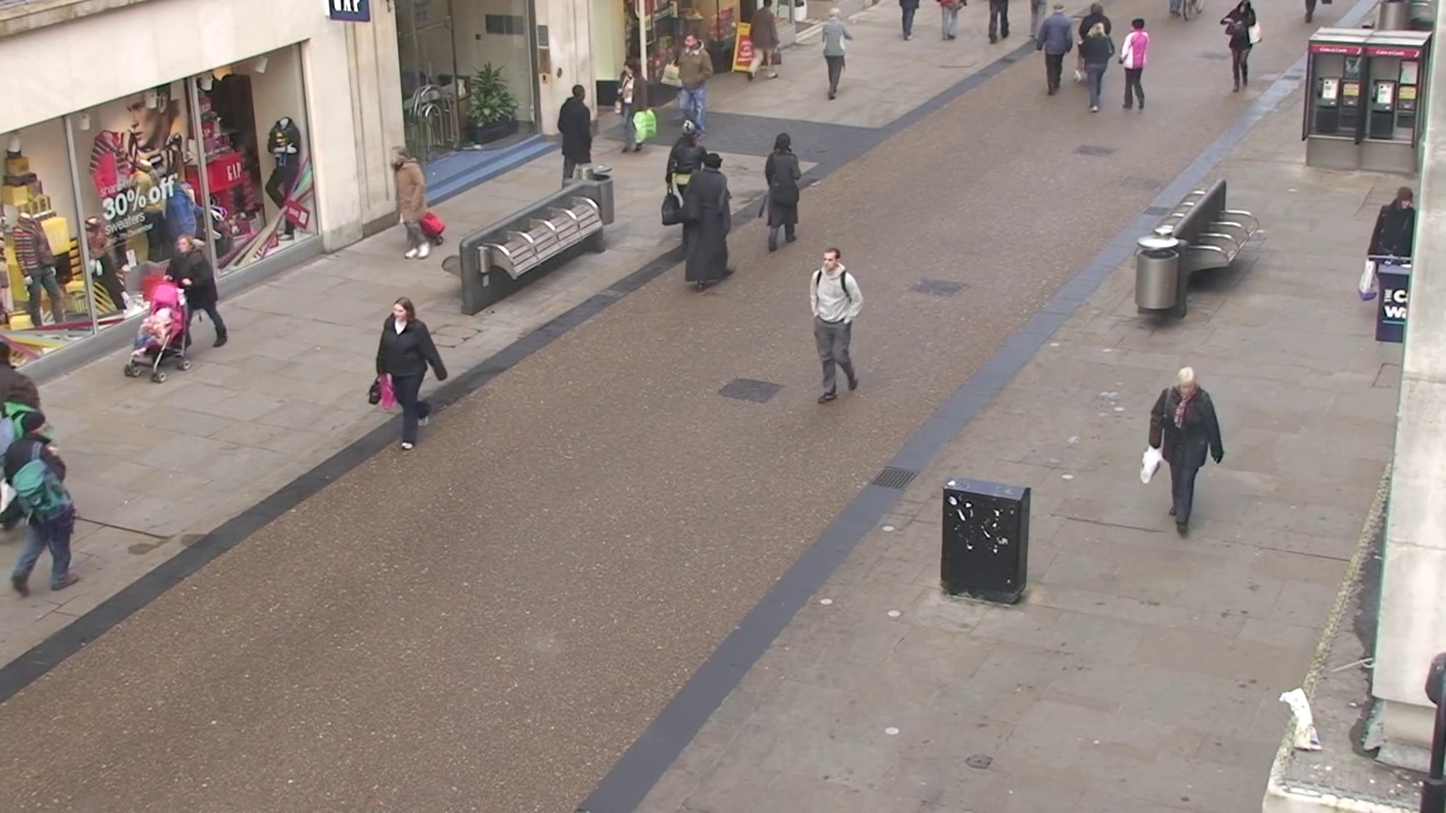person: (1147, 365, 1225, 536), (2, 428, 79, 597), (374, 298, 447, 450), (810, 248, 865, 402), (679, 152, 735, 291), (167, 231, 230, 348), (130, 268, 190, 372), (391, 146, 444, 260), (609, 53, 660, 160), (762, 132, 806, 251), (664, 32, 715, 120), (664, 120, 706, 218), (1078, 13, 1115, 114), (1038, 5, 1078, 96), (739, 5, 782, 84), (558, 85, 593, 182), (1221, 0, 1257, 93), (1118, 17, 1152, 114), (819, 8, 852, 102), (975, 0, 1023, 45), (942, 0, 970, 38), (898, 0, 917, 42)
